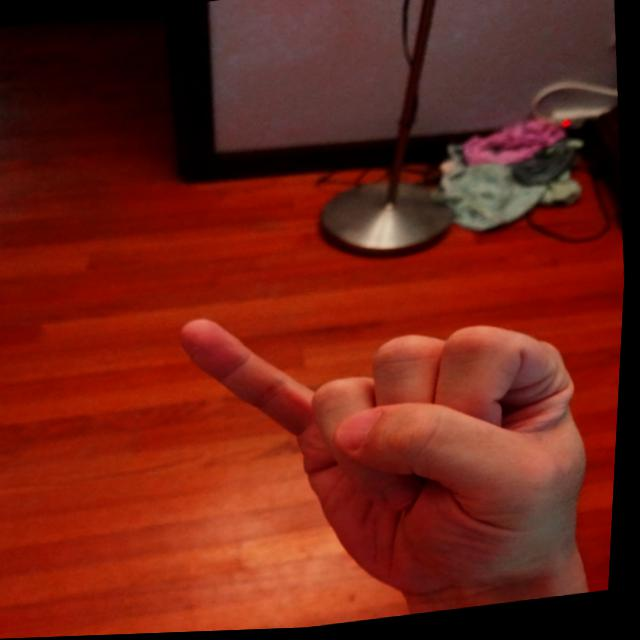I: (161, 267, 623, 634)
